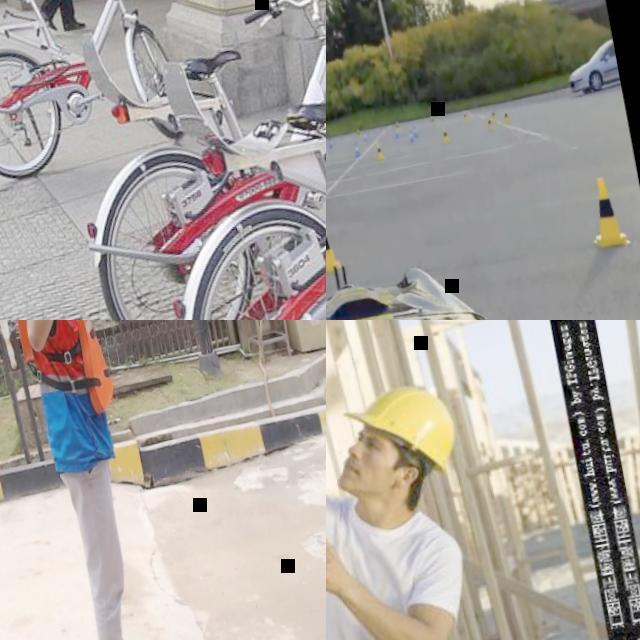Weapon: (328, 347, 542, 640)
objects: (338, 363, 472, 504)
